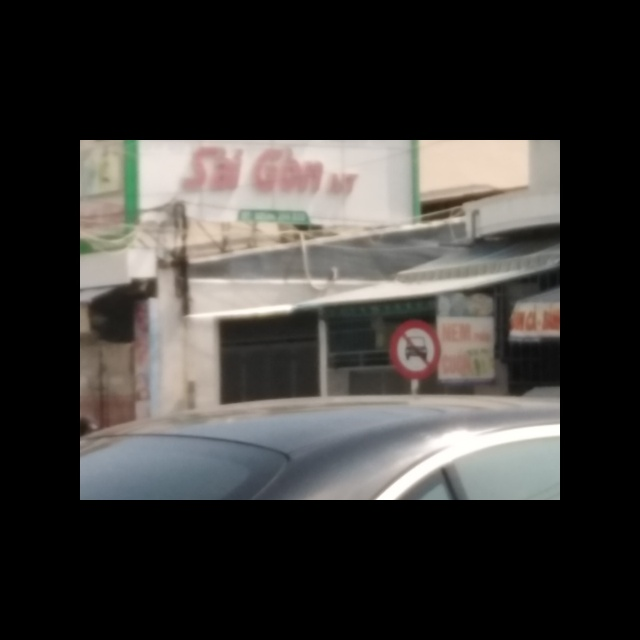Cấm xe ô tô: (391, 317, 446, 380)
